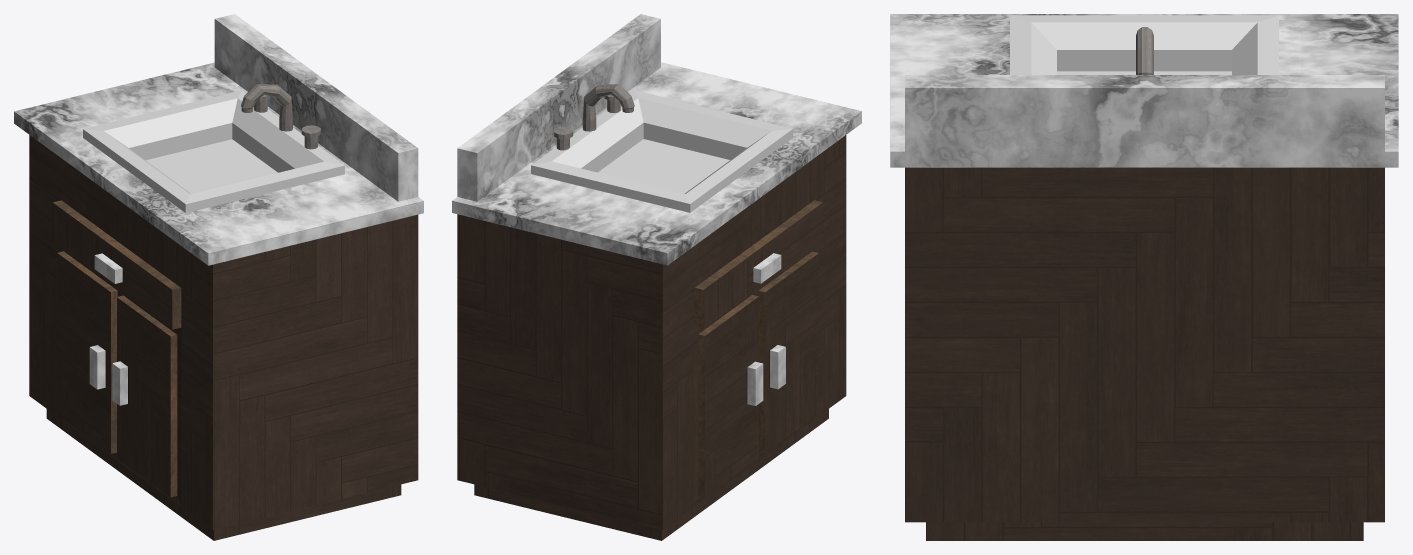
File: Lavamanos.fbx
3 views of the same model, side by side, from view 1: azimuth 30°, elevation 25°; view 2: azimuth 150°, elevation 25°; view 3: azimuth 270°, elevation 25° (orthographic). The views are drawn at different scales.
Parts seen in each view (by area): view 1: lavamanos; view 2: lavamanos; view 3: lavamanos.
Boxes of the visible parts, box(x1,y1,x2,y2) form: lavamanos: box(14, 14, 423, 540); lavamanos: box(452, 14, 861, 540); lavamanos: box(890, 14, 1398, 540).
Size of the model in its own units: 2.16 by 3.38 by 3.27.
